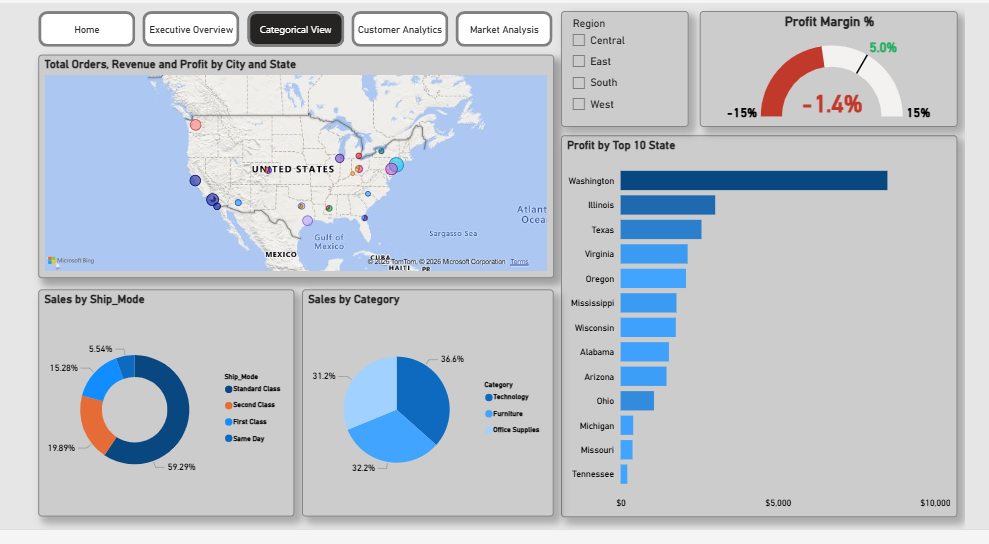

What the dashboard file says about the page in this screenshot:
{"tool":"powerbi","page":{"name":"Categorical View","canvas":[1280,720],"ordinal":2},"visuals":[{"type":"map","title":"Total Orders, Revenue and Profit by City and State","fields":{"Category":["customers_dim.City"],"Series":["customers_dim.State"],"Size":["order_details_fact.Total Revenue"]},"box":[9.5,71.1,706.2,305.7],"z":0},{"type":"clusteredBarChart","title":"Profit by Top 10 State","fields":{"Category":["customers_dim.State"],"Y":["order_details_fact.Total Profit"]},"box":[726.4,181.3,542.7,522.5],"z":1000},{"type":"slicer","fields":{"Values":["customers_dim.Region"]},"box":[726.4,10.7,175.4,158.8],"z":2000},{"type":"donutChart","title":"Sales by Ship_Mode","fields":{"Category":["orders_dim.Ship_Mode"],"Y":["order_details_fact.Total Revenue"]},"box":[9.5,392.2,350.7,311.6],"z":3000},{"type":"pieChart","title":"Sales by Category","fields":{"Category":["products_dim.Category"],"Y":["order_details_fact.Total Revenue"]},"box":[370.9,392.2,344.8,311.6],"z":4000},{"type":"gauge","fields":{"Y":["order_details_fact.Profit Margin %"]},"box":[915.9,10.7,353.1,158.8],"z":5000},{"type":"pageNavigator","box":[9.5,10.7,706.2,49.8],"z":6000}]}

Visuals, with their boxes in screenshot pixels (x1, y1, x2, y2), scaled from the page's 1280x720 canvas onto the 989x544 screenshot:
"Total Orders, Revenue and Profit by City and State" map: (left=7, top=54, right=553, bottom=285)
"Profit by Top 10 State" clusteredBarChart: (left=561, top=137, right=981, bottom=532)
slicer - customers_dim.Region: (left=561, top=8, right=697, bottom=128)
"Sales by Ship_Mode" donutChart: (left=7, top=296, right=278, bottom=532)
"Sales by Category" pieChart: (left=287, top=296, right=553, bottom=532)
gauge - order_details_fact.Profit Margin %: (left=708, top=8, right=981, bottom=128)
pageNavigator: (left=7, top=8, right=553, bottom=46)
